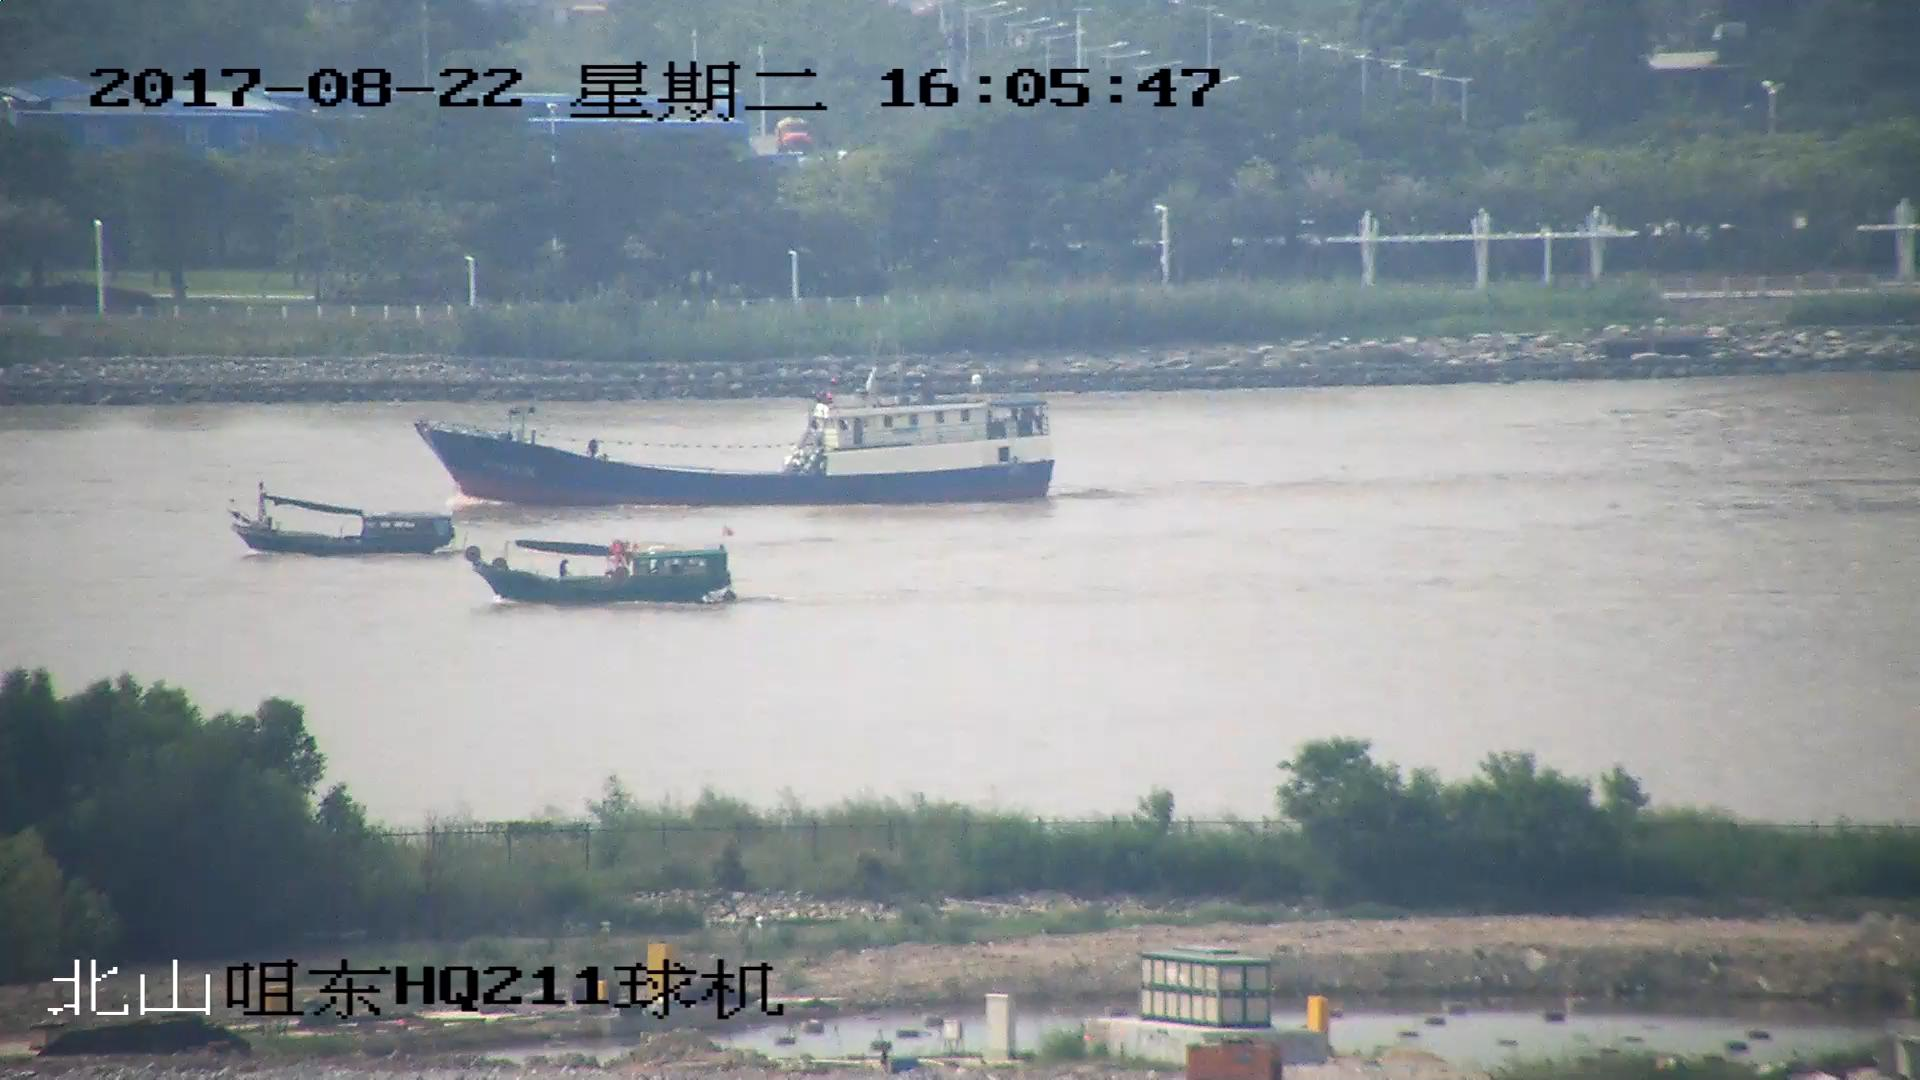fishing boat: (408, 371, 1059, 512), (463, 535, 736, 603), (229, 480, 457, 559)
